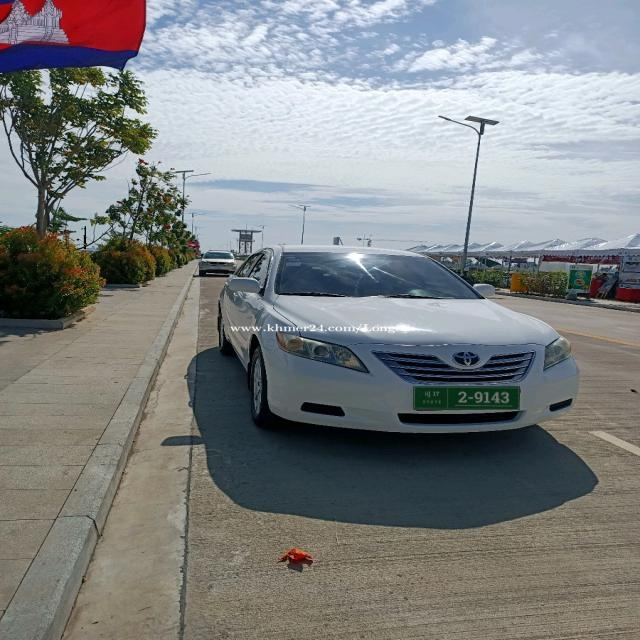Plate Number: (414, 387, 520, 410)
